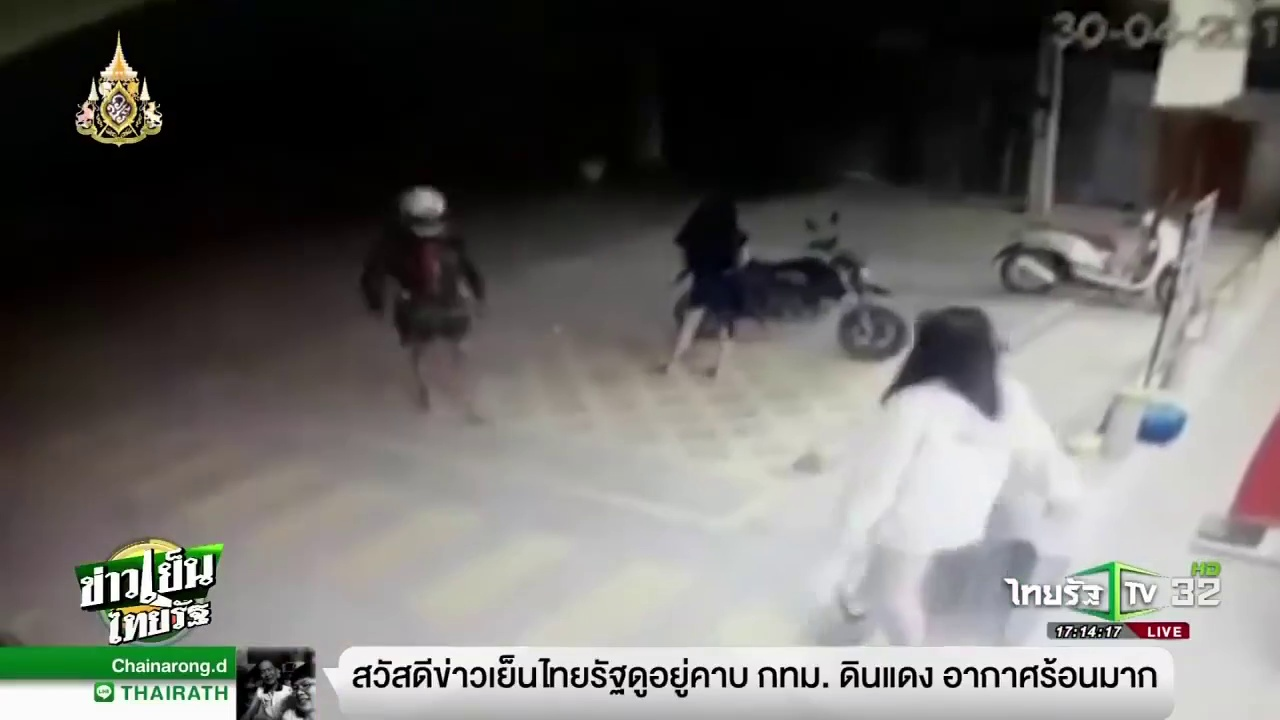helmet: (392, 171, 453, 237)
